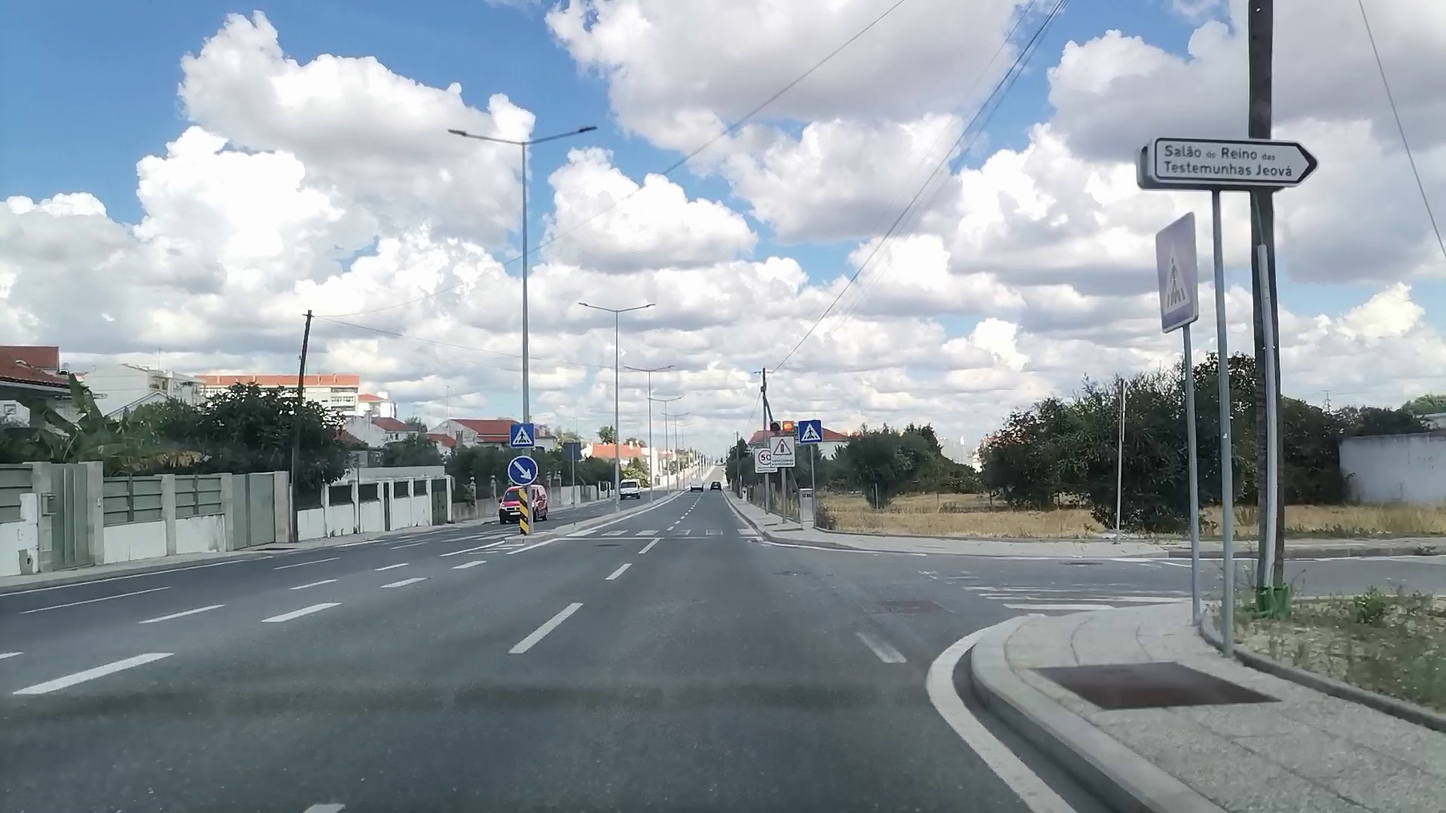Stairs: (906, 552, 1194, 610), (567, 526, 752, 539)
